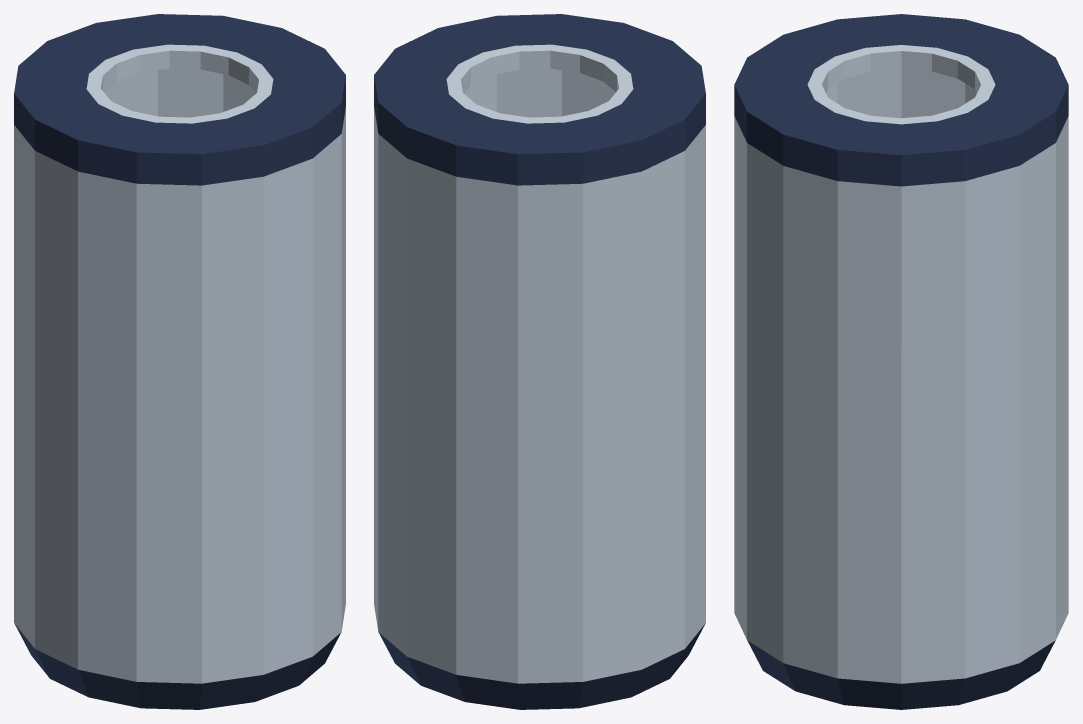
File: TrashBinModel05.fbx
The picture shows the model from 3 angles, left to right: view 1: azimuth 30°, elevation 25°; view 2: azimuth 150°, elevation 25°; view 3: azimuth 270°, elevation 25°; orthographic projection.
Parts seen in each view (by area): view 1: TrashBin05; view 2: TrashBin05; view 3: TrashBin05.
Part boxes in pixels (left/top/right/bottom): TrashBin05: left=14, top=14, right=345, bottom=709; TrashBin05: left=374, top=14, right=705, bottom=709; TrashBin05: left=734, top=14, right=1068, bottom=709.
Bounding box in the file's own units: 68.35 × 127 × 68.35.
